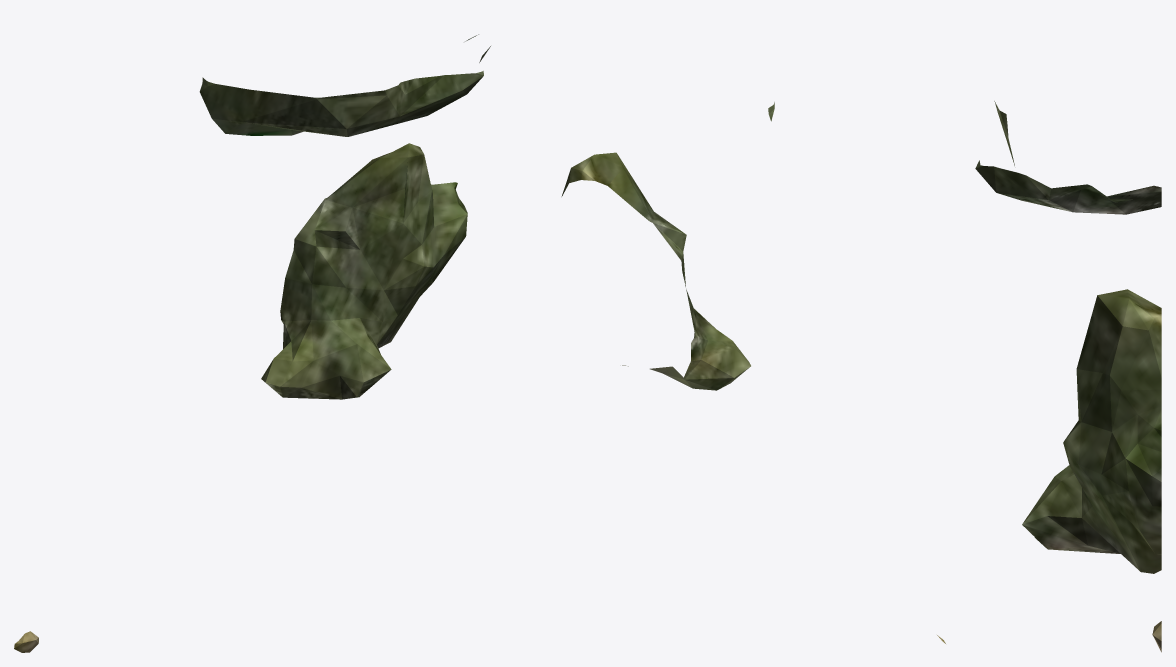
3 views of the same model, side by side, from view 1: azimuth 30°, elevation 25°; view 2: azimuth 150°, elevation 25°; view 3: azimuth 270°, elevation 25° (orthographic). The views are drawn at different scales.
Size of the model in its own units: 2.17 by 2.43 by 0.5411.
Materials: 1 (1 with a texture image).
